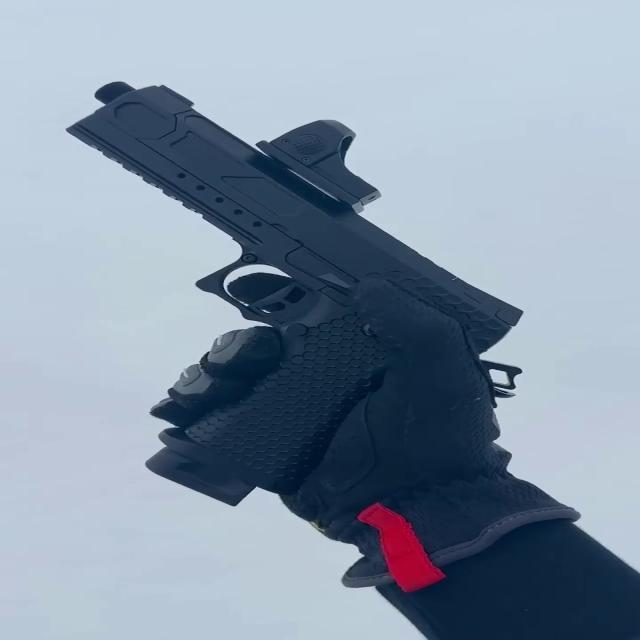Handgun: (68, 79, 536, 502)
